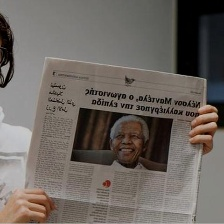news_paper: (16, 51, 213, 224)
